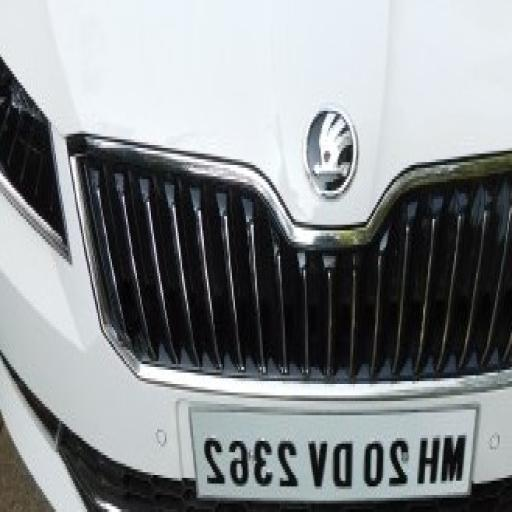License: (190, 407, 478, 492)
